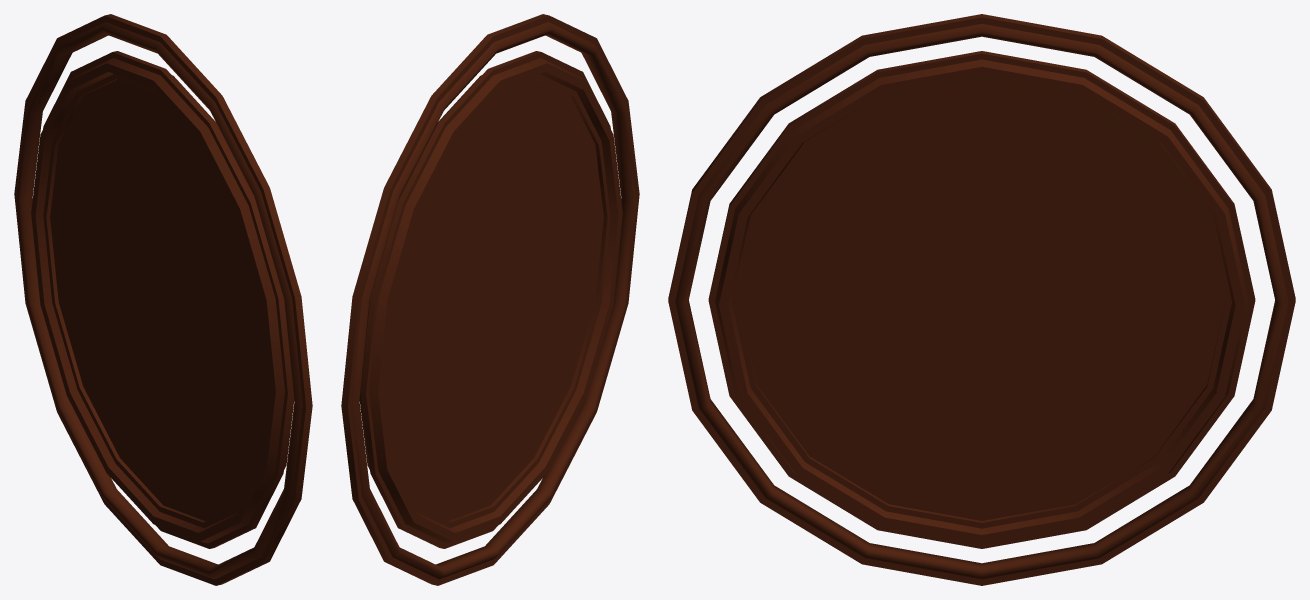
File: bridge_2.fbx
3 renders of one model, left to right at view 1: azimuth 30°, elevation 25°; view 2: azimuth 150°, elevation 25°; view 3: azimuth 270°, elevation 25°, orthographic. The views are drawn at different scales.
Visible parts, largest first — view 1: b2; view 2: b2; view 3: b2.
Part boxes in pixels (left/top/right/bottom): b2: left=14, top=14, right=312, bottom=585; b2: left=341, top=14, right=639, bottom=585; b2: left=668, top=14, right=1295, bottom=585.
Size of the model in its own units: 0.495 by 12.51 by 12.51.
